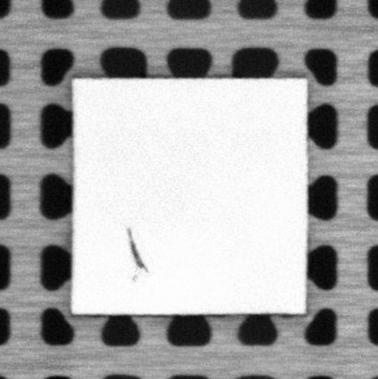DIE_INK: (124, 226, 148, 283)
